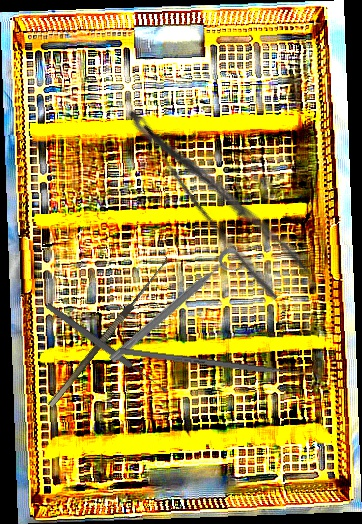Dressing Forceps: (122, 83, 312, 304)
Fixation Ring: (105, 244, 249, 374)
Hook Surgical: (40, 251, 172, 408)
Pusher: (119, 347, 319, 380)
Surgical Spoon: (44, 301, 169, 396)
